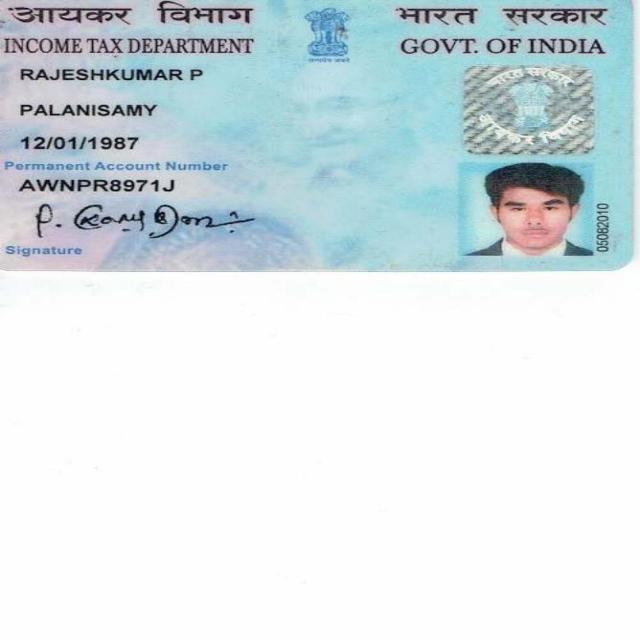pan_card: (0, 0, 631, 264)
